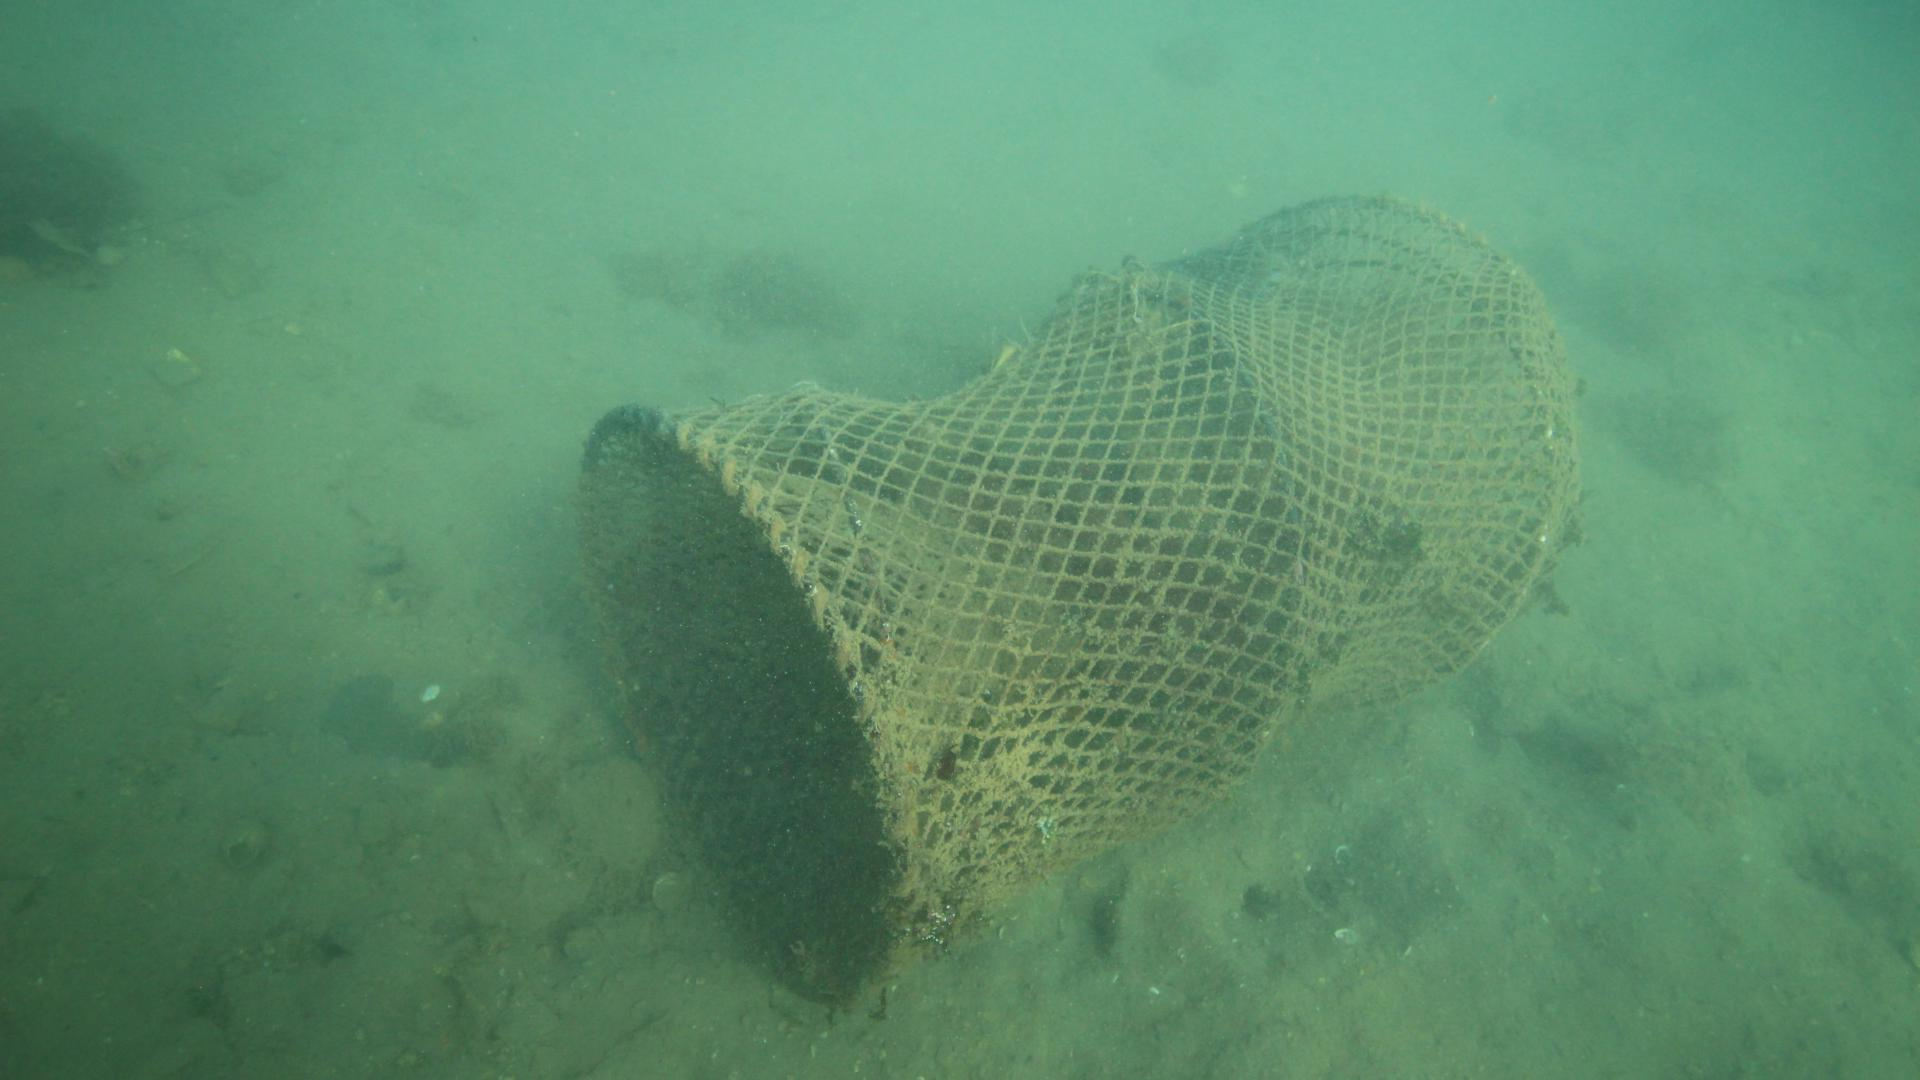spring fish trap: (574, 191, 1590, 1001)
